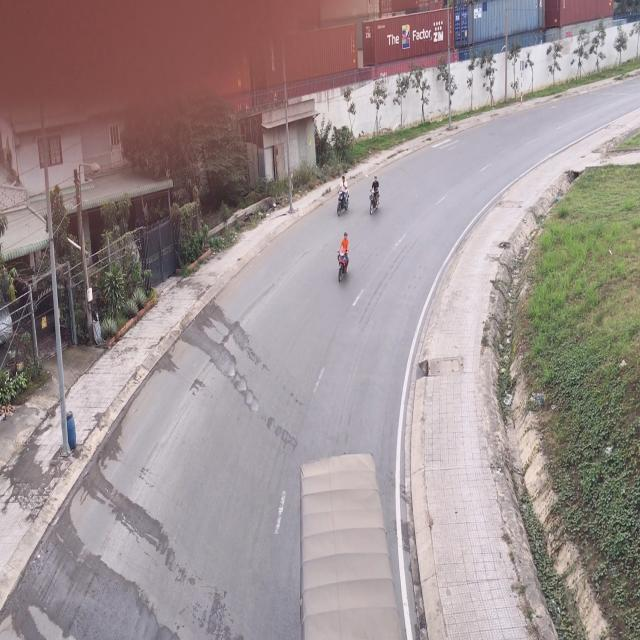motorbike: (336, 232, 352, 286), (367, 173, 380, 219), (338, 178, 352, 215)
truck: (298, 454, 403, 640)
